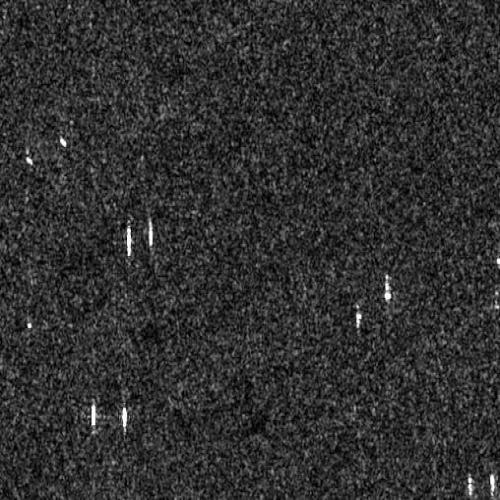ship: (126, 221, 133, 258), (384, 274, 392, 302), (355, 303, 362, 331), (148, 218, 154, 248), (489, 473, 496, 498), (122, 406, 128, 434), (91, 403, 98, 427), (467, 473, 473, 497), (58, 136, 68, 148), (25, 155, 34, 168), (25, 321, 33, 330)
